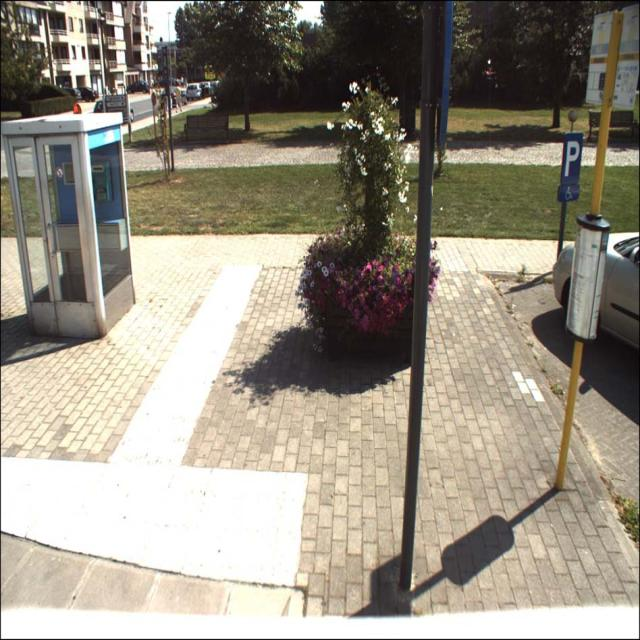park: (560, 134, 580, 185)
